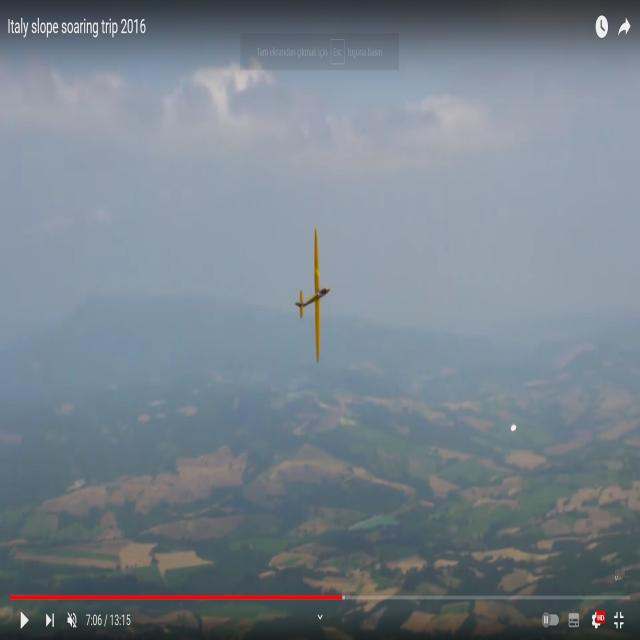iha: (293, 231, 333, 361)
